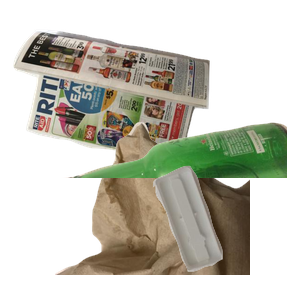glass: (60, 120, 300, 300)
paper: (11, 27, 213, 185)
plastic: (150, 163, 300, 300)
trash: (52, 120, 292, 300)
